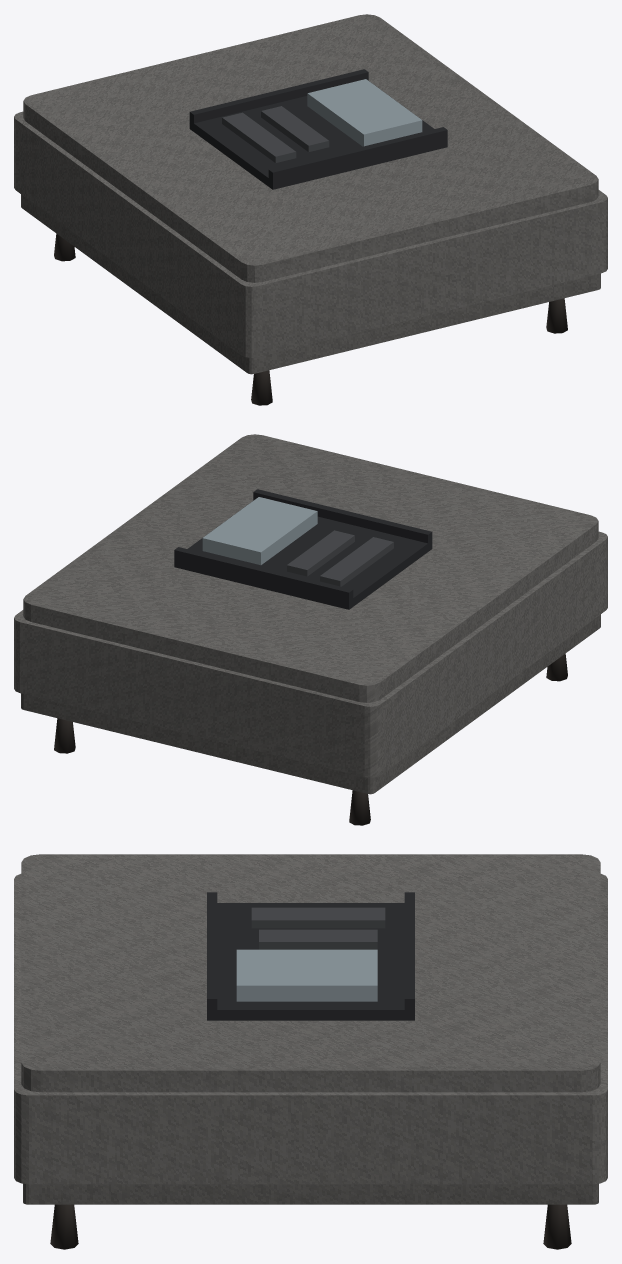
File: Movie_Ottoman.glb
The picture shows the model from 3 angles, top to bottom: view 1: azimuth 30°, elevation 25°; view 2: azimuth 150°, elevation 25°; view 3: azimuth 270°, elevation 25°; orthographic projection. The views are drawn at different scales.
Parts seen in each view (by area): view 1: root; view 2: root; view 3: root.
Part boxes in pixels (bbox=[...]): root: bbox=[14, 14, 607, 405]; root: bbox=[14, 434, 607, 825]; root: bbox=[14, 854, 607, 1249].
Bounding box in the file's own units: 1.08 × 0.4938 × 1.22.
6 materials, 2 textured.
